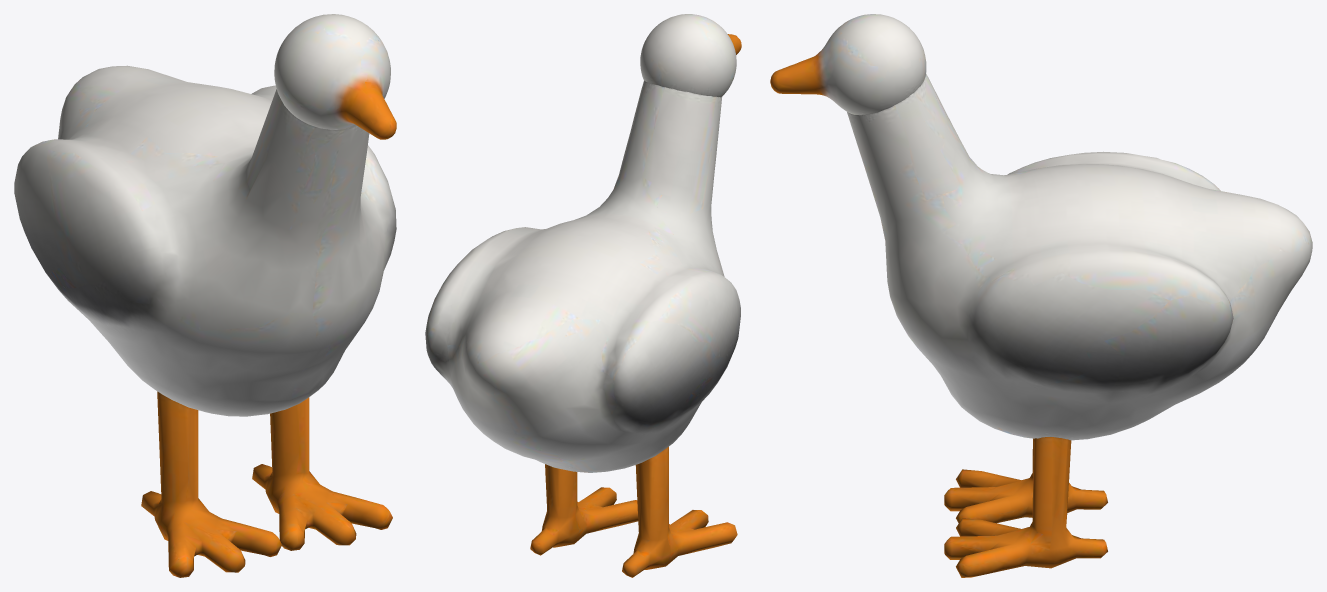
File: animal_emden_goose.glb
3 renders of one model, left to right at view 1: azimuth 30°, elevation 25°; view 2: azimuth 150°, elevation 25°; view 3: azimuth 270°, elevation 25°, orthographic. The views are drawn at different scales.
Parts seen in each view (by area): view 1: animal_emden_goose, head, leg0, leg1; view 2: animal_emden_goose, head, leg0, leg1; view 3: animal_emden_goose, head, leg1, leg0.
Part boxes in pixels (x1=…): animal_emden_goose: x1=14, y1=65, x2=396, y2=416; head: x1=274, y1=14, x2=396, y2=139; leg0: x1=141, y1=391, x2=281, y2=577; leg1: x1=252, y1=397, x2=392, y2=550; animal_emden_goose: x1=425, y1=81, x2=740, y2=472; head: x1=640, y1=14, x2=741, y2=97; leg0: x1=622, y1=446, x2=737, y2=577; leg1: x1=530, y1=464, x2=638, y2=555; animal_emden_goose: x1=847, y1=73, x2=1312, y2=440; head: x1=770, y1=14, x2=926, y2=115; leg1: x1=944, y1=437, x2=1107, y2=577; leg0: x1=944, y1=438, x2=1107, y2=523.
Bounding box in the file's own units: 0.1855 × 0.3499 × 0.3291.
1 material, 1 textured.
